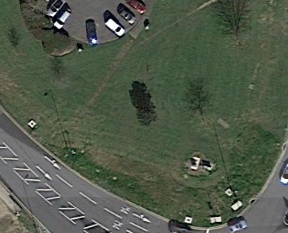tree: (184, 81, 225, 134), (123, 81, 162, 127)
